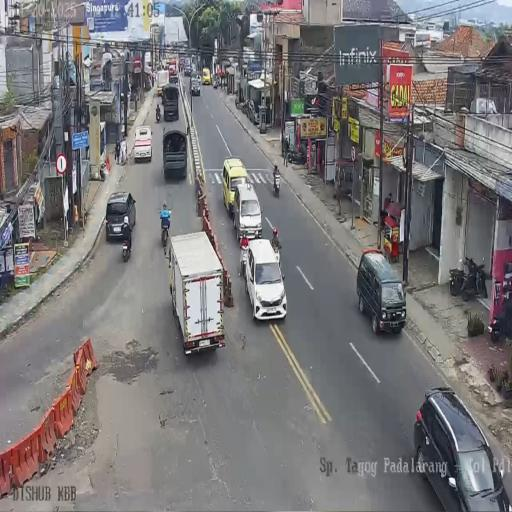car: (412, 386, 510, 510), (356, 249, 406, 335), (244, 240, 287, 322), (105, 189, 136, 241), (234, 184, 262, 241), (162, 128, 188, 178), (134, 125, 152, 163), (190, 72, 201, 96), (202, 68, 211, 86), (169, 75, 178, 86), (184, 66, 191, 76), (191, 64, 196, 73)
motorcycle: (449, 254, 487, 300), (489, 290, 512, 342), (286, 143, 305, 165), (121, 231, 132, 263), (160, 218, 170, 250), (273, 171, 280, 197), (212, 76, 219, 89), (156, 105, 161, 123)
truck: (167, 231, 227, 354), (156, 68, 169, 96), (168, 57, 178, 77), (179, 58, 185, 72)
